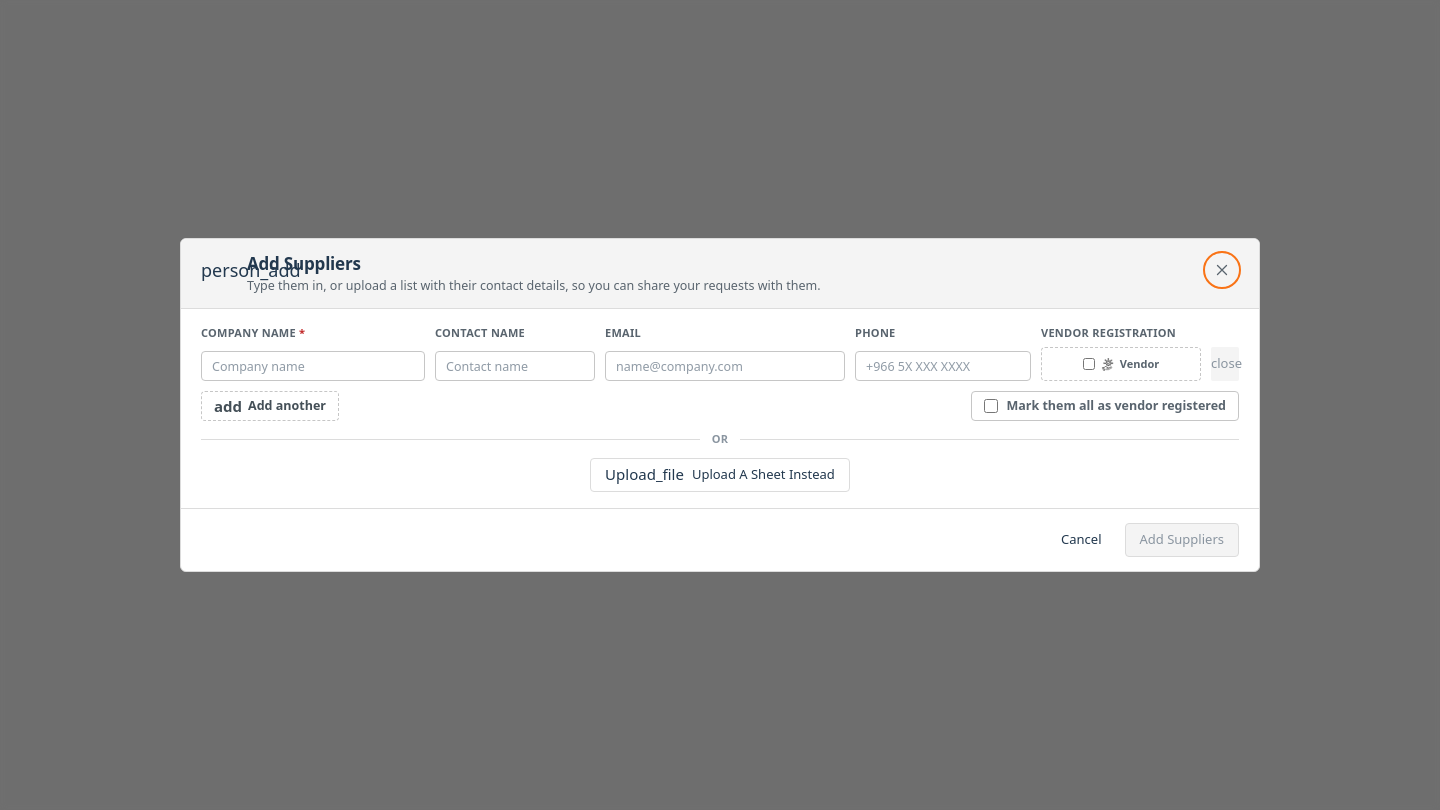
Scenario: a row short of the rule says so, instead of vanishing › names the missing contact once a company is typed
Step 1. Type "Al-Faisal Contracting Est." into the field with placeholder "Company name" → point(313, 366), box 201,351 -> 425,381
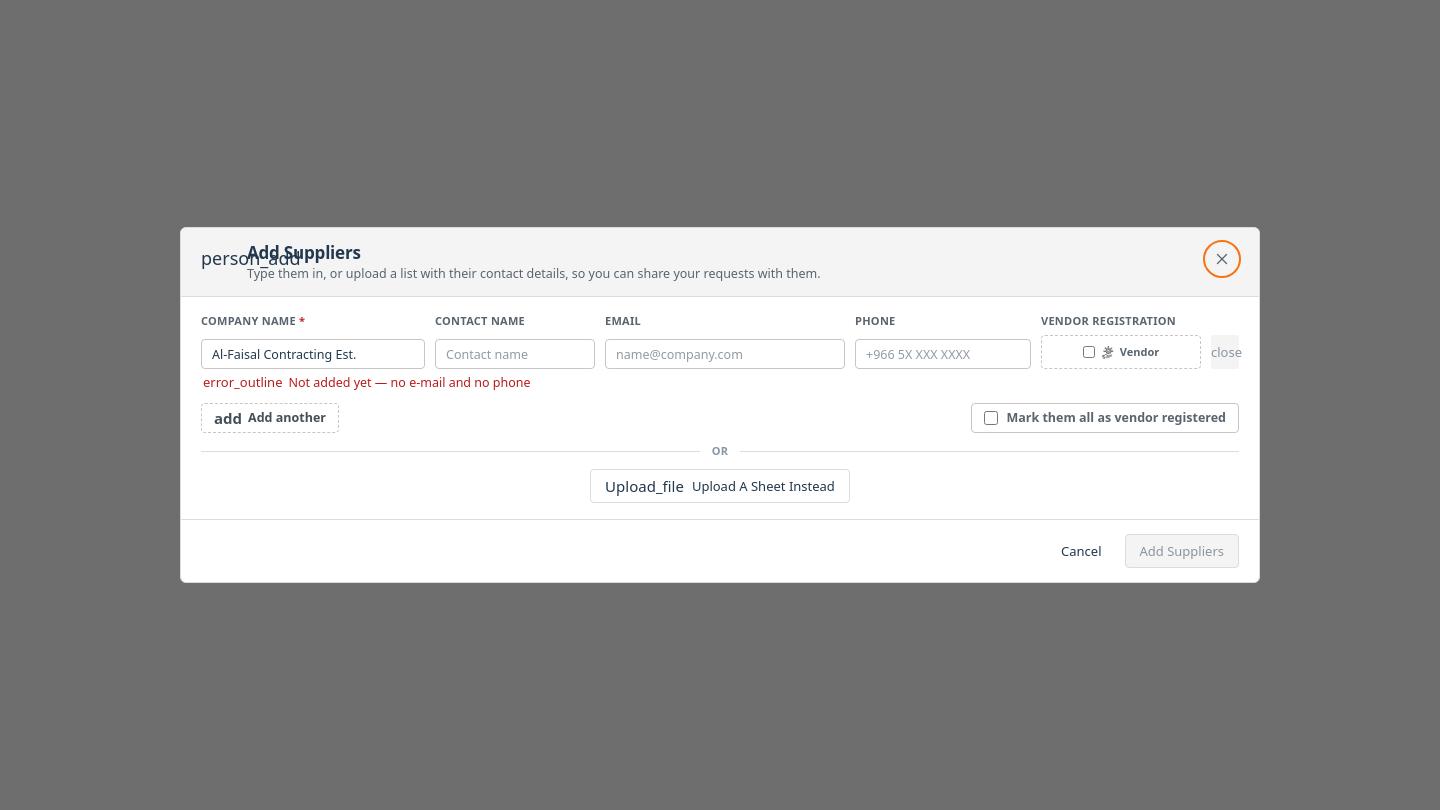
Expected: the text "error_outline Not added yet — no e-mail and no phone" is shown, 203,374 -> 531,392
